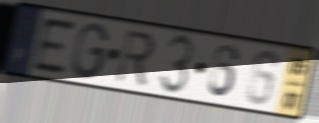3: (157, 33, 195, 98)
6: (245, 48, 280, 108), (207, 44, 241, 101)
E: (32, 16, 79, 76)
G: (70, 21, 111, 81)
R: (113, 28, 157, 89)
